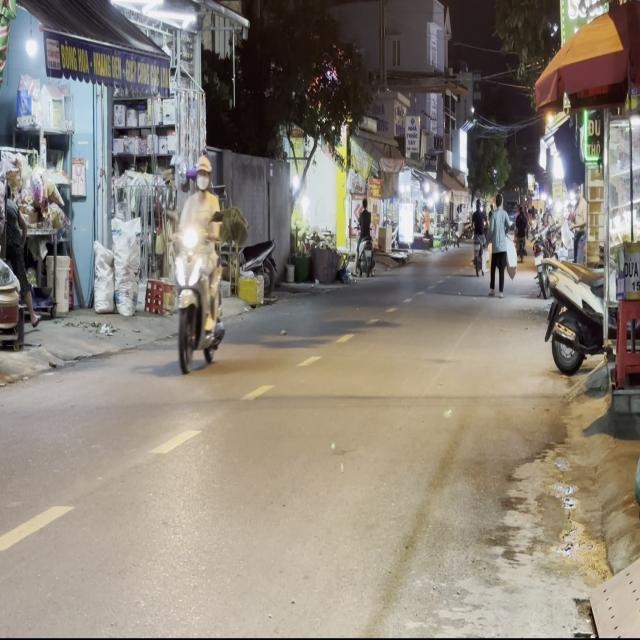helmet: (194, 155, 211, 191)
licenseplate: (171, 153, 226, 373)
